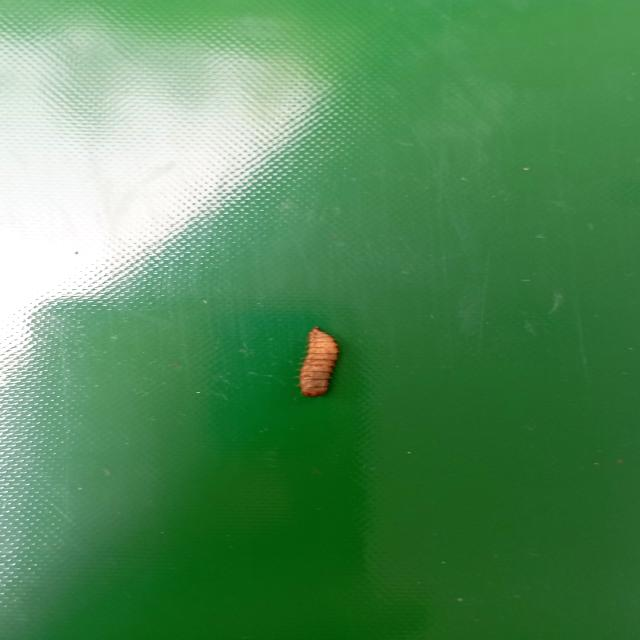Maggot: (298, 329, 341, 400)
